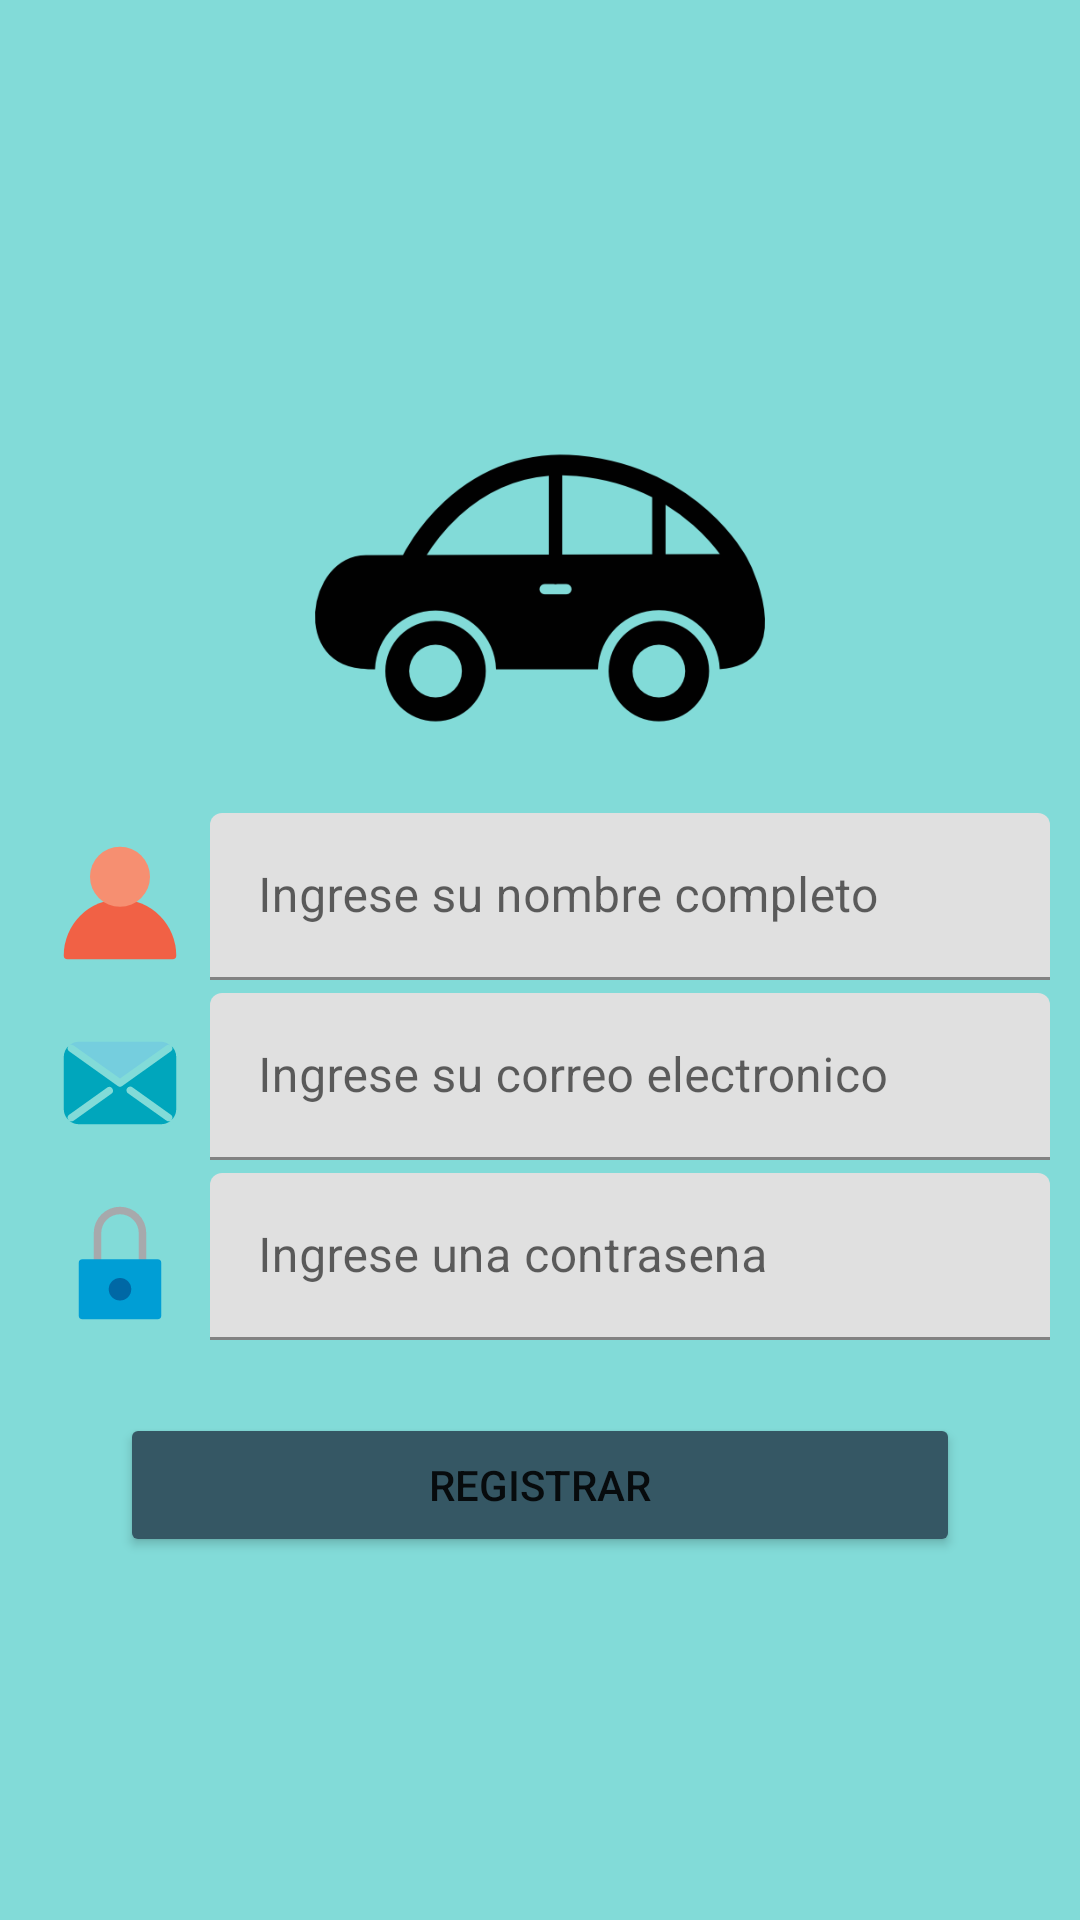

Icon click points for this 1080 × 1920 phone screenshot, format (x,y):
admin user web: (120,903)
email mail web: (120,1086)
key scurity web: (120,1263)
